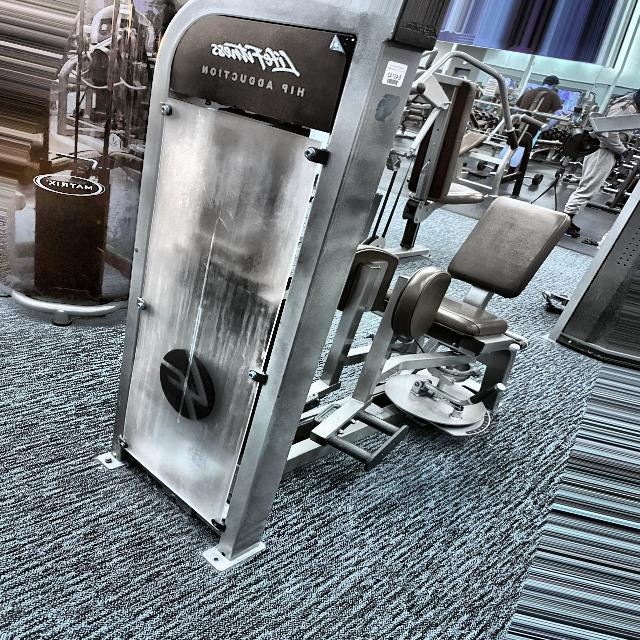hip_adduction_machine: (348, 165, 582, 451), (353, 218, 520, 502), (191, 58, 317, 124)
